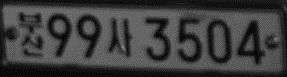0: (206, 18, 232, 63)
3: (145, 17, 171, 61)
4: (236, 18, 265, 65)
5: (177, 16, 202, 63)
9: (47, 12, 72, 57), (76, 13, 101, 58)
부산_V: (18, 11, 45, 57)
사: (108, 17, 133, 57)
